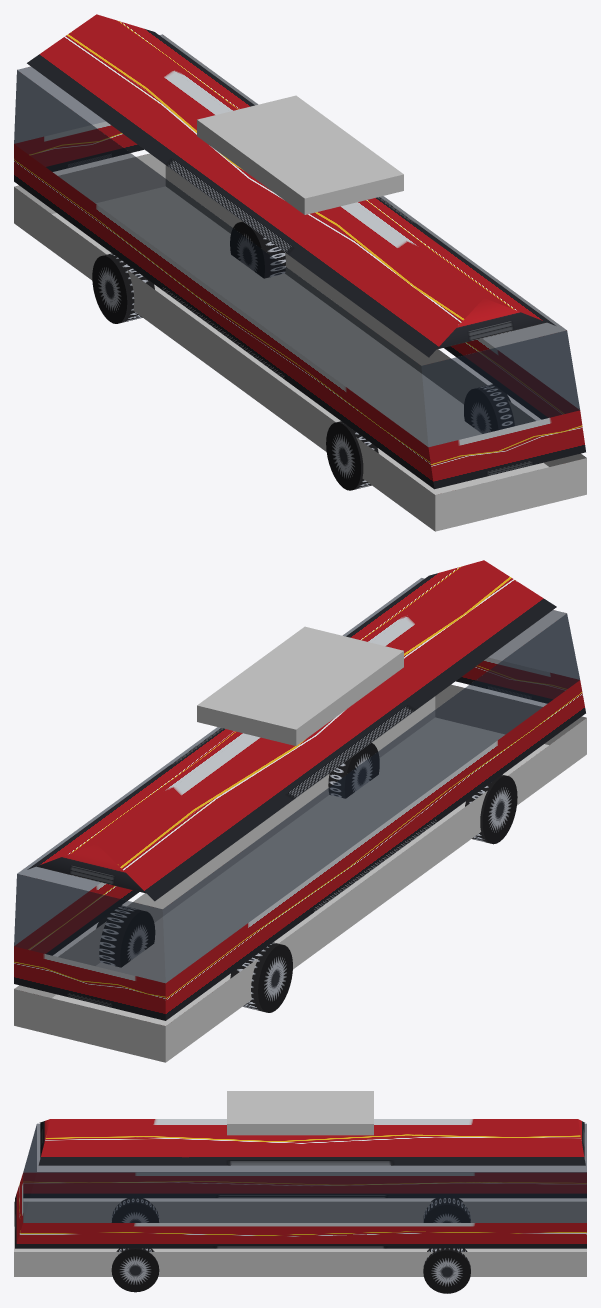
File: IndianIntercityCoach_12M_Hero_LOD0.obj
3 views of the same model, one above another, from view 1: azimuth 30°, elevation 25°; view 2: azimuth 150°, elevation 25°; view 3: azimuth 270°, elevation 25° (orthographic). The views are drawn at different scales.
Parts seen in each view (by area): view 1: Exterior_Body_Crimson, Exterior_Skirting, Exterior_Glass_Tinted, Exterior_Roof_AC, Wheels_RearLeft, Wheels_FrontLeft, Wheels_RearRight, Wheels_FrontRight; view 2: Exterior_Body_Crimson, Exterior_Skirting, Exterior_Glass_Tinted, Exterior_Roof_AC, Wheels_RearRight, Wheels_RearLeft, Wheels_FrontLeft, Wheels_FrontRight; view 3: Exterior_Body_Crimson, Exterior_Glass_Tinted, Exterior_Skirting, Exterior_Roof_AC, Wheels_RearRight, Wheels_FrontRight, Wheels_RearLeft, Wheels_FrontLeft.
Part boxes in pixels (<box>): Exterior_Body_Crimson: <box>14,14,585,489</box>; Exterior_Skirting: <box>14,153,586,531</box>; Exterior_Glass_Tinted: <box>14,34,579,446</box>; Exterior_Roof_AC: <box>197,95,403,214</box>; Wheels_RearLeft: <box>92,253,154,323</box>; Wheels_FrontLeft: <box>326,421,378,490</box>; Wheels_RearRight: <box>230,221,285,278</box>; Wheels_FrontRight: <box>464,384,514,433</box>; Exterior_Body_Crimson: <box>14,560,585,1020</box>; Exterior_Skirting: <box>14,684,586,1062</box>; Exterior_Glass_Tinted: <box>14,578,579,983</box>; Exterior_Roof_AC: <box>197,626,403,745</box>; Wheels_RearRight: <box>96,905,155,967</box>; Wheels_RearLeft: <box>230,942,292,1012</box>; Wheels_FrontLeft: <box>465,774,517,844</box>; Wheels_FrontRight: <box>328,743,379,798</box>; Exterior_Body_Crimson: <box>15,1119,586,1248</box>; Exterior_Glass_Tinted: <box>23,1123,586,1222</box>; Exterior_Skirting: <box>14,1201,586,1276</box>; Exterior_Roof_AC: <box>227,1091,373,1135</box>; Wheels_RearRight: <box>423,1248,470,1293</box>; Wheels_FrontRight: <box>111,1248,159,1292</box>; Wheels_RearLeft: <box>423,1198,470,1222</box>; Wheels_FrontLeft: <box>111,1198,159,1222</box>.
Bounding box in the file's own units: 2.84 × 3.82 × 12.5.
